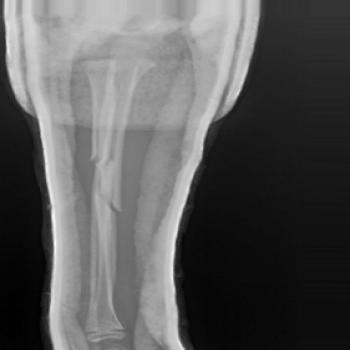Fracture: (82, 149, 135, 214)
